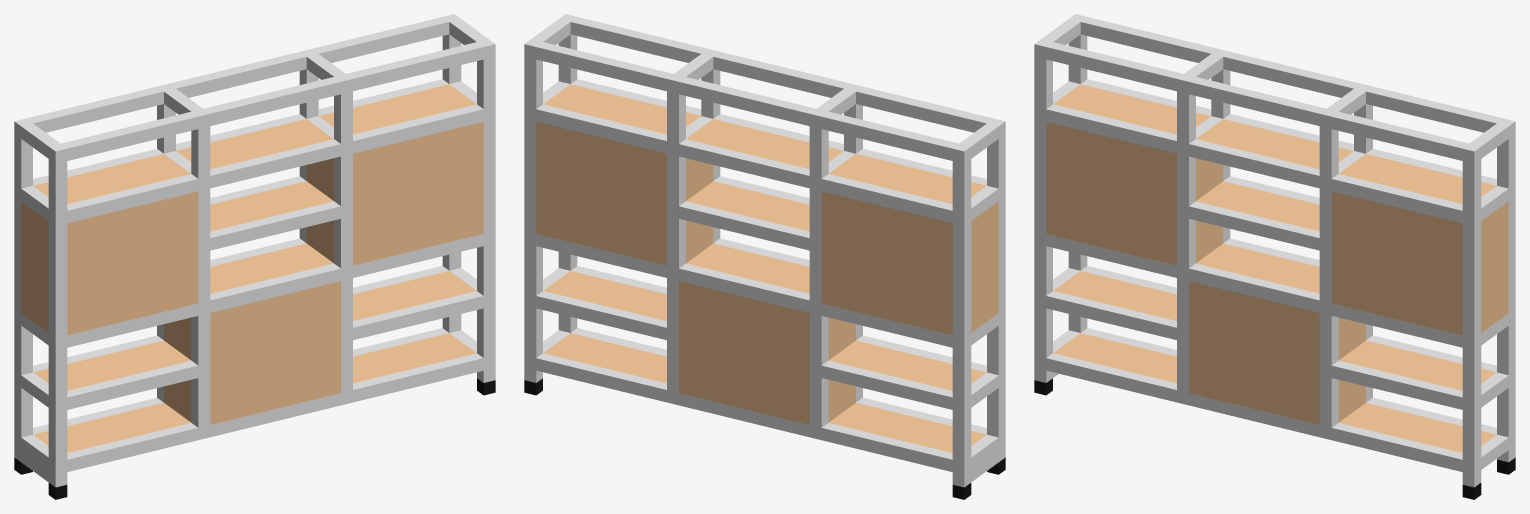
The model's file is dice_2og-40-dining_divider.obj.
The picture shows the model from 3 angles, left to right: view 1: azimuth 30°, elevation 25°; view 2: azimuth 150°, elevation 25°; view 3: azimuth 330°, elevation 25°; orthographic projection.
Visible parts, largest first — view 1: dining_divider; view 2: dining_divider; view 3: dining_divider.
Boxes of the visible parts, <box> form: dining_divider: <box>14,14,495,499</box>; dining_divider: <box>524,14,1005,499</box>; dining_divider: <box>1034,14,1515,499</box>.
Size of the model in its own units: 3.7 by 2.8 by 0.6.
1 material, 1 textured.
